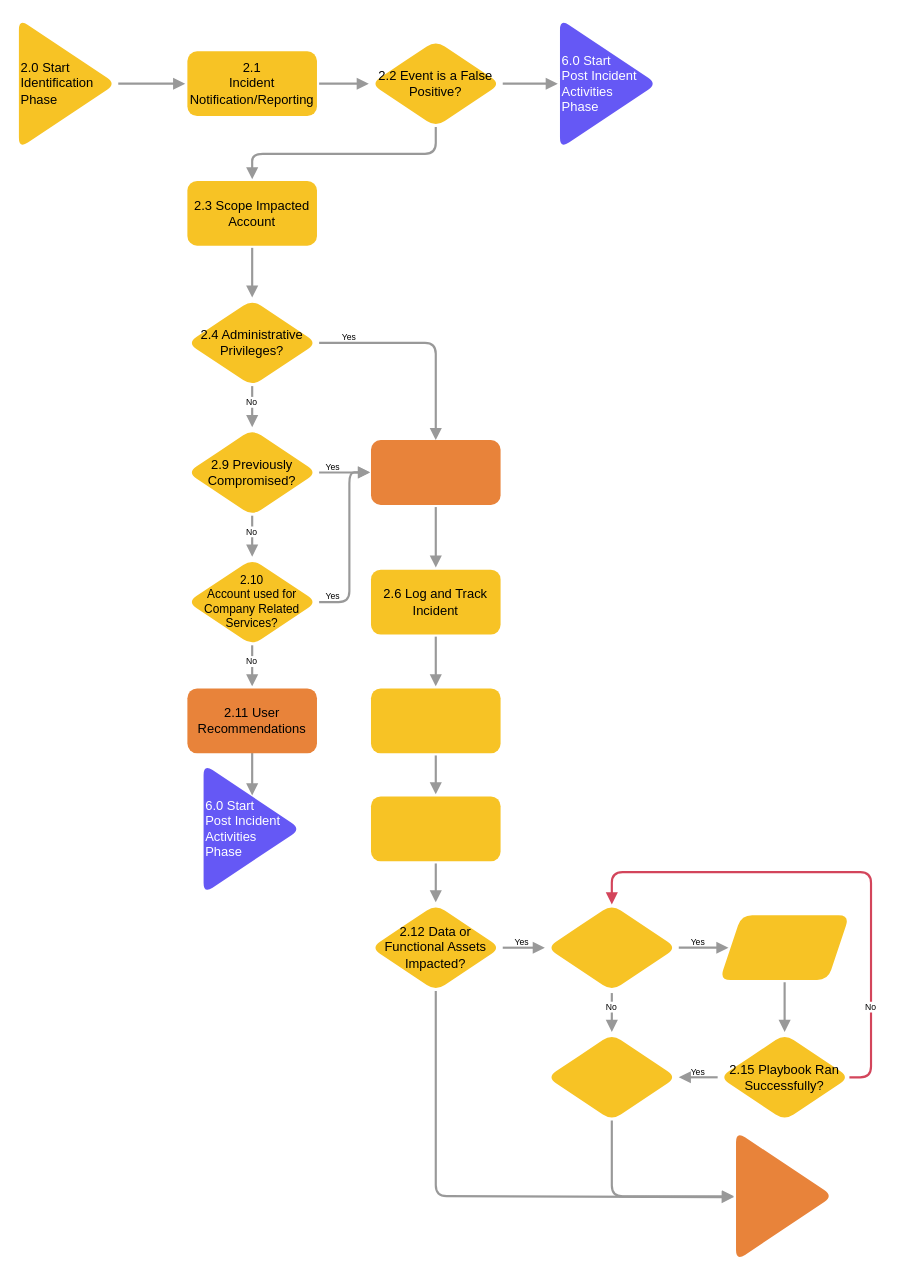
Image size: 921x1279. Some labels were removed from this diagram. Here are the shapes that lost their labels. From the top down, the centre of each, then its label:
At (x=435, y=472): "2.5 First Responder Actions".
At (x=435, y=720): "2.7 Determine Impact and Incident Priority".
At (x=435, y=828): "2.8 Inform Stakeholders According to the Incident Priority".
At (x=611, y=947): "2.13 Additional Playbook is Available?".
At (x=784, y=947): "2.14 Activate Respective Playbook".
At (x=611, y=1077): "2.16 Altered Priority?".
At (x=784, y=1195): "3.0 Start Containment Phase".
